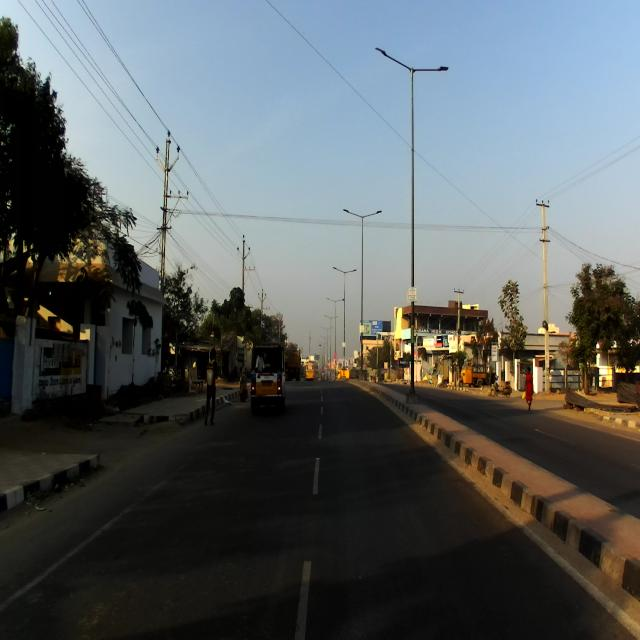car ahead at: (250, 341, 288, 411)
